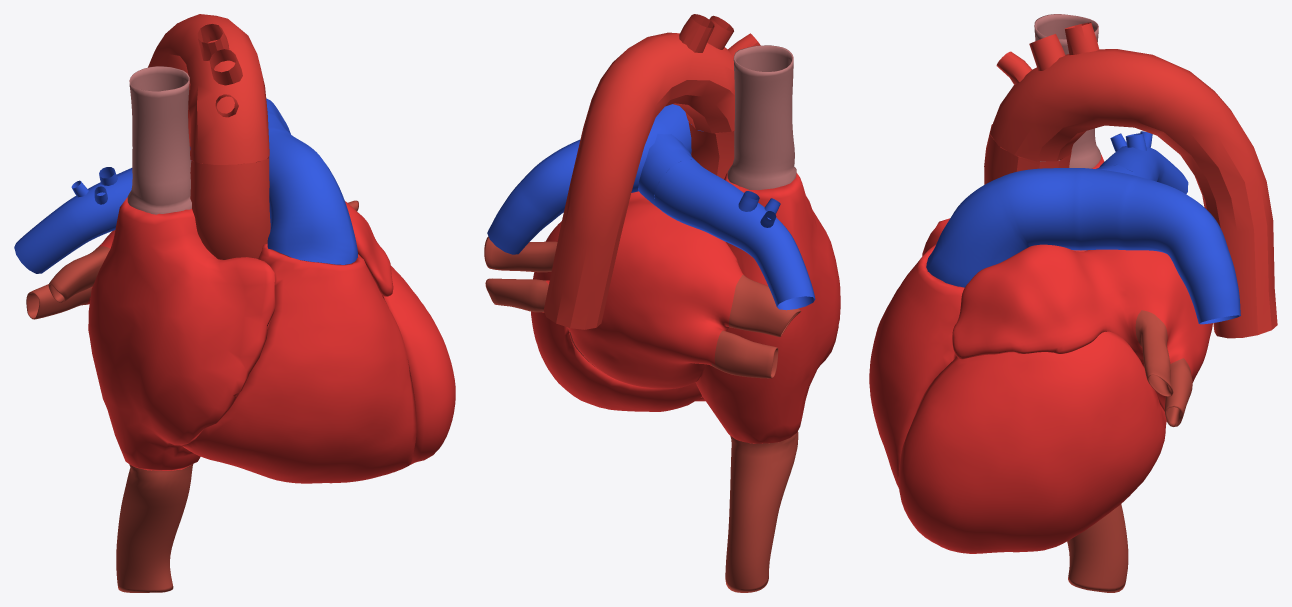
Rendered from heart.gltf.
3 renders of one model, left to right at view 1: azimuth 30°, elevation 25°; view 2: azimuth 150°, elevation 25°; view 3: azimuth 270°, elevation 25°, orthographic. The views are drawn at different scales.
Visible parts, largest first — view 1: Rightatrium.002, Rightventricle.006, a1.001, a1.004, Rightatrium.006, Rightatrium.007, Leftventricle, Left atrium.002; view 2: Left atrium.002, a1.001, a1.004, Rightatrium.002, Rightatrium.006, Rightatrium.007, Leftventricle; view 3: Leftventricle, a1.001, a1.004, Left atrium.002, Rightventricle.006, Rightatrium.007, Rightatrium.006.
Boxes of the visible parts, x1=… form: Rightatrium.002: x1=88, y1=197, x2=275, y2=470; Rightventricle.006: x1=180, y1=243, x2=416, y2=483; a1.001: x1=148, y1=14, x2=270, y2=259; a1.004: x1=14, y1=98, x2=357, y2=273; Rightatrium.006: x1=127, y1=66, x2=191, y2=214; Rightatrium.007: x1=116, y1=464, x2=193, y2=592; Leftventricle: x1=383, y1=266, x2=455, y2=465; Left atrium.002: x1=26, y1=200, x2=393, y2=319; Left atrium.002: x1=484, y1=191, x2=800, y2=388; a1.001: x1=543, y1=14, x2=760, y2=329; a1.004: x1=487, y1=104, x2=815, y2=310; Rightatrium.002: x1=695, y1=173, x2=840, y2=443; Rightatrium.006: x1=727, y1=45, x2=796, y2=189; Rightatrium.007: x1=725, y1=431, x2=798, y2=592; Leftventricle: x1=531, y1=221, x2=702, y2=411; Leftventricle: x1=898, y1=331, x2=1166, y2=553; a1.001: x1=984, y1=22, x2=1277, y2=338; a1.004: x1=926, y1=131, x2=1240, y2=324; Left atrium.002: x1=952, y1=244, x2=1212, y2=426; Rightventricle.006: x1=869, y1=244, x2=964, y2=488; Rightatrium.007: x1=1067, y1=504, x2=1128, y2=592; Rightatrium.006: x1=1034, y1=14, x2=1100, y2=168.
Bounding box in the file's own units: 4.22 × 6.58 × 4.09.
